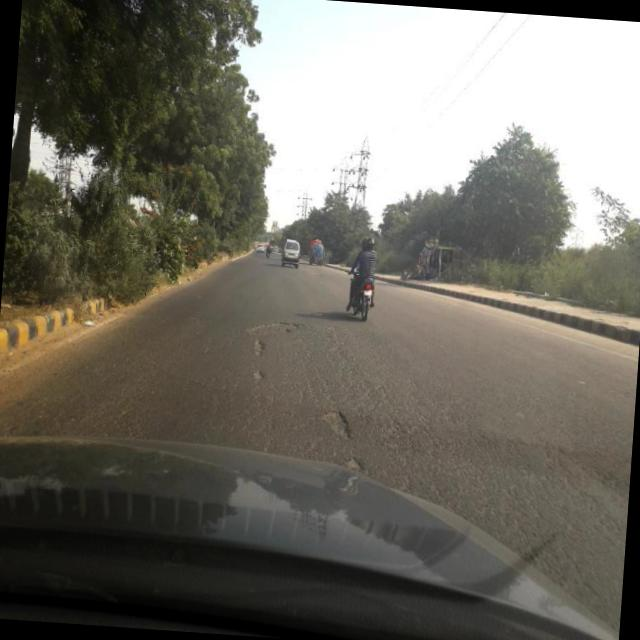crack: (35, 298, 630, 506)
pothole: (309, 392, 362, 446), (244, 312, 296, 366), (346, 455, 377, 475)
